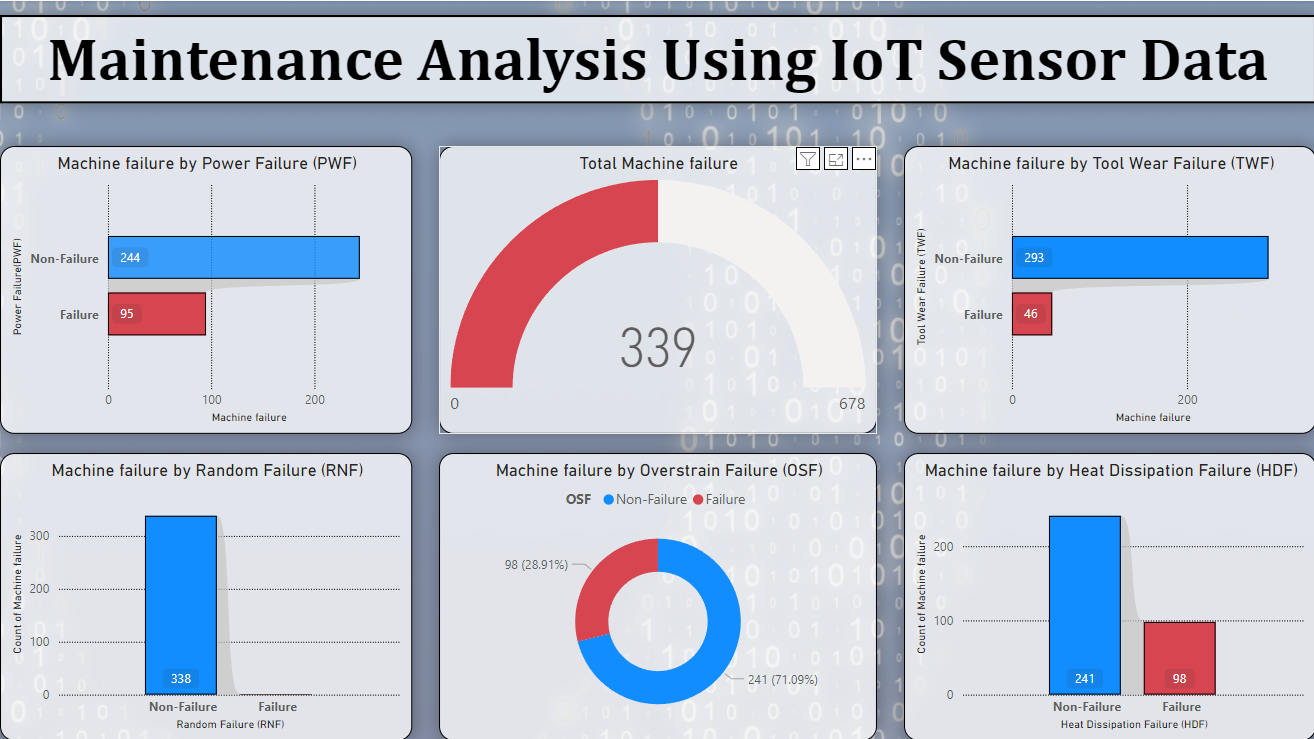

Layout of this report page (visuals, bound fields, positions):
{"tool":"powerbi","page":{"name":"Page 1","canvas":[1280,720],"ordinal":0},"visuals":[{"type":"barChart","title":"Machine failure by Power Failure (PWF)","fields":{"Category":["historical_maintenance_data.PWF"],"Y":["CountNonNull(historical_maintenance_data.Machine failure)"]},"box":[0,141,401,280],"z":0},{"type":"textbox","box":[0,14,1280,86],"z":1000},{"type":"columnChart","title":"Machine failure by Random Failure (RNF) ","fields":{"Category":["historical_maintenance_data.RNF"],"Y":["CountNonNull(historical_maintenance_data.Machine failure)"]},"box":[0,440,401,280],"z":2000},{"type":"donutChart","title":"Machine failure by Overstrain Failure (OSF)","fields":{"Category":["historical_maintenance_data.OSF"],"Y":["CountNonNull(historical_maintenance_data.Machine failure)"]},"box":[427,440,426,280],"z":3000},{"type":"gauge","title":"Total Machine failure ","fields":{"Y":["Sum(historical_maintenance_data.Machine failure)"]},"box":[427,141,426,280],"z":4000},{"type":"barChart","title":"Machine failure by Tool Wear Failure (TWF)","fields":{"Y":["CountNonNull(historical_maintenance_data.Machine failure)"],"Category":["historical_maintenance_data.TWF"]},"box":[879,141,401,280],"z":5000},{"type":"columnChart","title":"Machine failure by Heat Dissipation Failure (HDF)","fields":{"Category":["historical_maintenance_data.OSF"],"Y":["CountNonNull(historical_maintenance_data.Machine failure)"]},"box":[879,440,401,280],"z":6000}]}

Visuals, with their boxes in screenshot pixels (x1, y1, x2, y2), scaled from the page's 1280x720 canvas onto the 1314x739 screenshot:
"Machine failure by Power Failure (PWF)" barChart: box=[0, 145, 412, 432]
textbox: box=[0, 14, 1313, 103]
"Machine failure by Random Failure (RNF) " columnChart: box=[0, 452, 412, 738]
"Machine failure by Overstrain Failure (OSF)" donutChart: box=[438, 452, 876, 738]
"Total Machine failure " gauge: box=[438, 145, 876, 432]
"Machine failure by Tool Wear Failure (TWF)" barChart: box=[902, 145, 1313, 432]
"Machine failure by Heat Dissipation Failure (HDF)" columnChart: box=[902, 452, 1313, 738]
